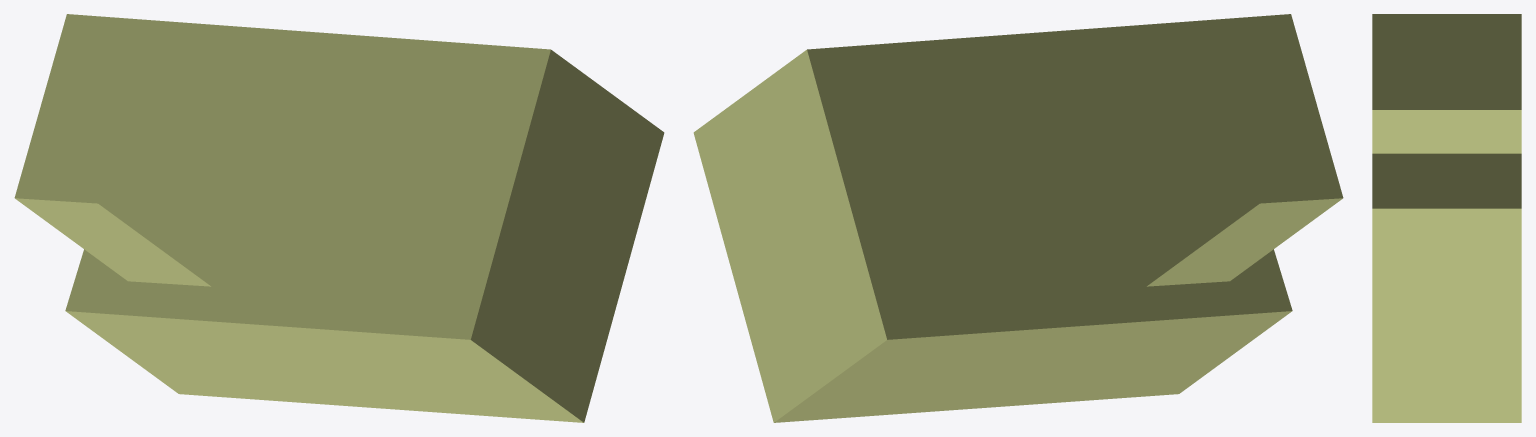
The picture shows the model from 3 angles, left to right: view 1: azimuth 30°, elevation 25°; view 2: azimuth 150°, elevation 25°; view 3: azimuth 270°, elevation 25°; orthographic projection. The views are drawn at different scales.
Parts seen in each view (by area): view 1: 0_3_0_1_1_1_0_2_0_0; view 2: 0_3_0_1_1_1_0_2_0_0; view 3: 0_3_0_1_1_1_0_2_0_0.
Part boxes in pixels (box(x1,y1,x2,y2)): 0_3_0_1_1_1_0_2_0_0: box(14, 14, 664, 422); 0_3_0_1_1_1_0_2_0_0: box(693, 14, 1343, 422); 0_3_0_1_1_1_0_2_0_0: box(1372, 14, 1521, 422).
Size of the model in its own units: 16.37 by 12.38 by 6.
